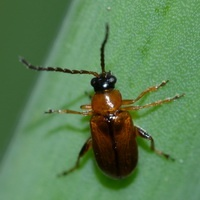insect: (20, 24, 184, 177)
